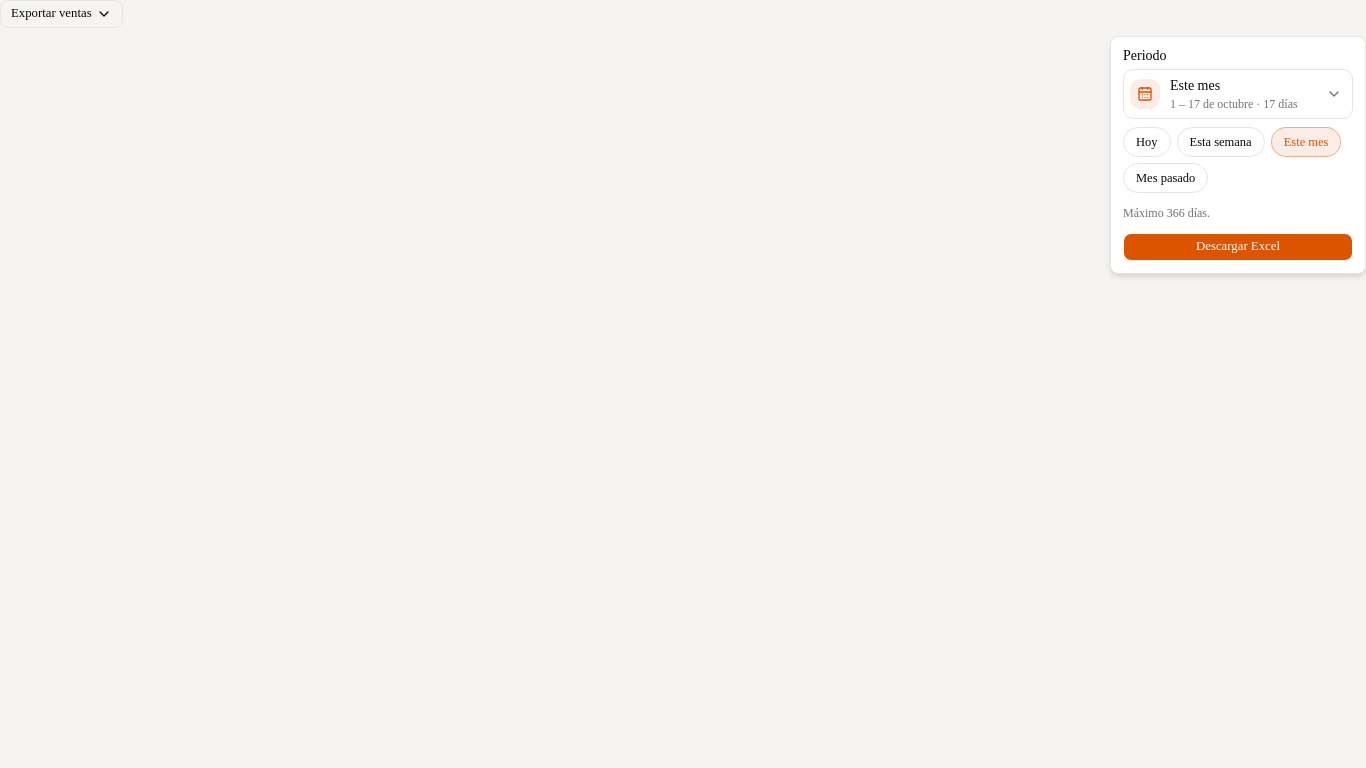
Scenario: BotonExportar › Escape dentro del calendario abierto cierra solo el calendario
Click the button named "Periodo" at (1238,94), box [1123, 69, 1353, 119]
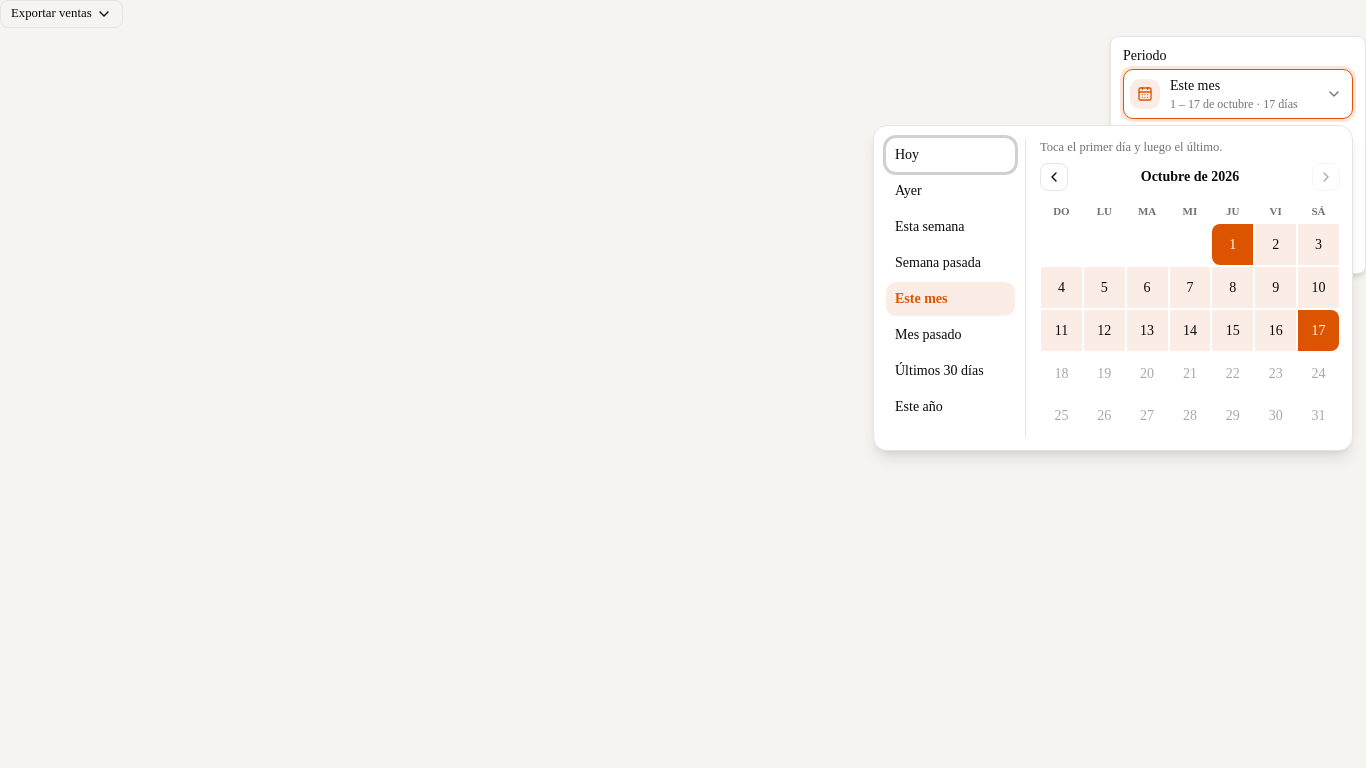
Check: the dialog is shown, box [873, 125, 1353, 451]
Press Escape
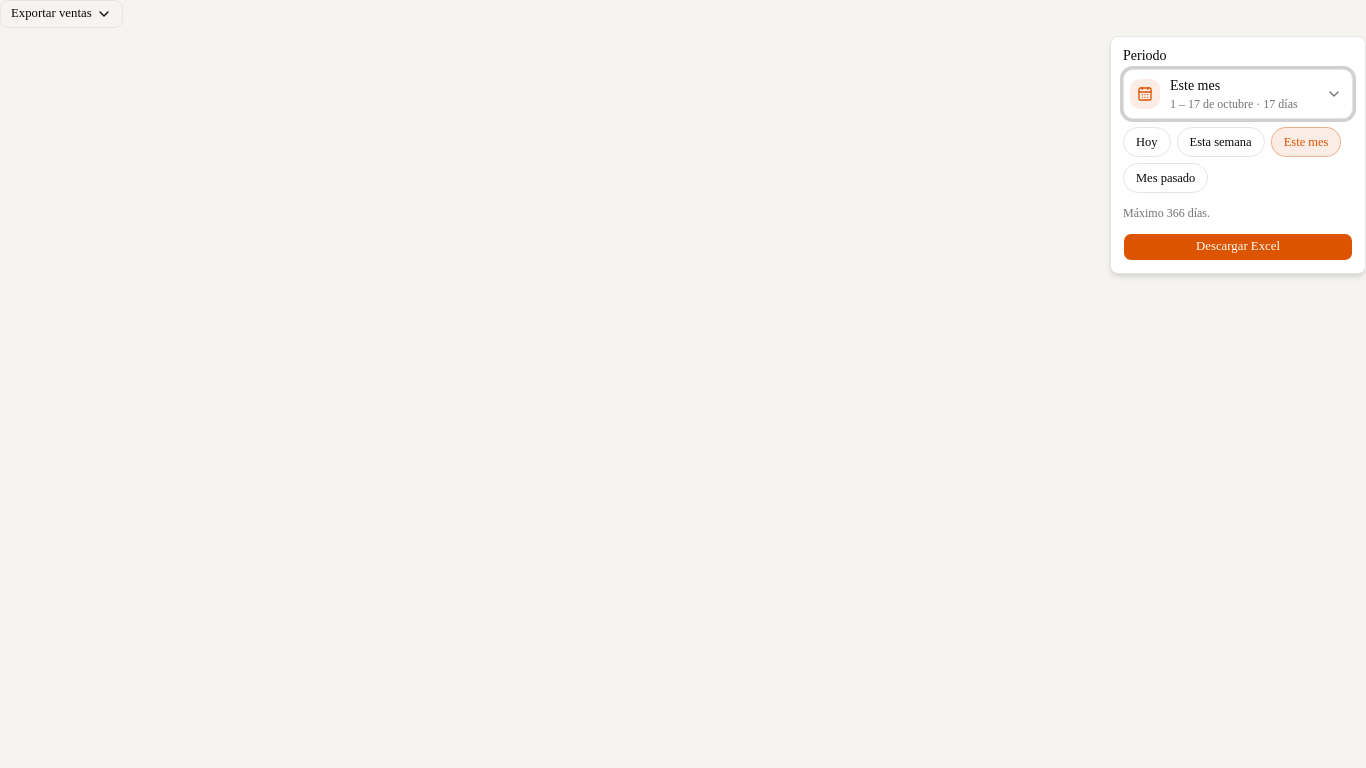
Check: the dialog is gone
